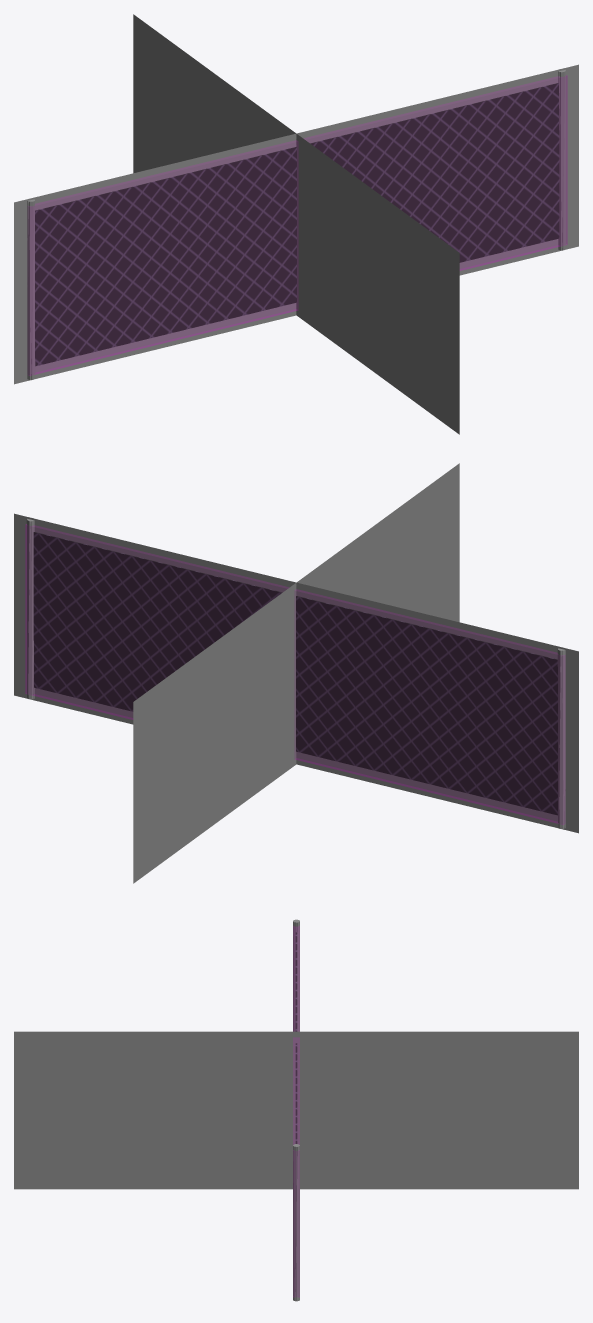
The model's file is chainlink_6m.dae.
3 views of the same model, one above another, from view 1: azimuth 30°, elevation 25°; view 2: azimuth 150°, elevation 25°; view 3: azimuth 270°, elevation 25° (orthographic). The views are drawn at different scales.
Visible parts, largest first — view 1: chainlink_6m_a800, Colmesh_panel-1, chainlink_6m_a50, chainlink_6m_a200; view 2: chainlink_6m_a800, Colmesh_panel-1, chainlink_6m_a50, chainlink_6m_a200; view 3: chainlink_6m_a50, chainlink_6m_a800, Colmesh_panel-1, chainlink_6m_a200.
Part boxes in pixels (left/top/right/bottom): chainlink_6m_a800: left=27, top=69, right=565, bottom=379; Colmesh_panel-1: left=28, top=75, right=567, bottom=375; chainlink_6m_a50: left=14, top=14, right=578, bottom=434; chainlink_6m_a200: left=27, top=70, right=566, bottom=379; chainlink_6m_a800: left=27, top=518, right=565, bottom=828; Colmesh_panel-1: left=25, top=524, right=564, bottom=824; chainlink_6m_a50: left=14, top=463, right=578, bottom=883; chainlink_6m_a200: left=26, top=519, right=565, bottom=828; chainlink_6m_a50: left=14, top=1031, right=578, bottom=1189; chainlink_6m_a800: left=293, top=919, right=299, bottom=1301; Colmesh_panel-1: left=293, top=926, right=299, bottom=1296; chainlink_6m_a200: left=293, top=919, right=299, bottom=1301.
Size of the model in its own units: 6.3 by 6.3 by 1.94.
Materials: 3 (1 with a texture image).
